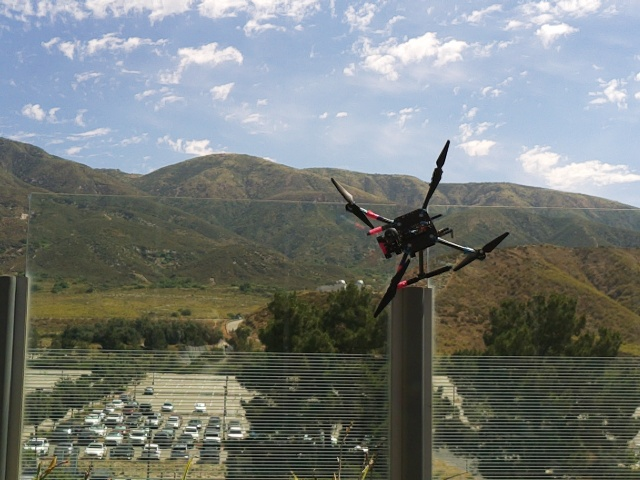quadcopter: (327, 124, 531, 333)
